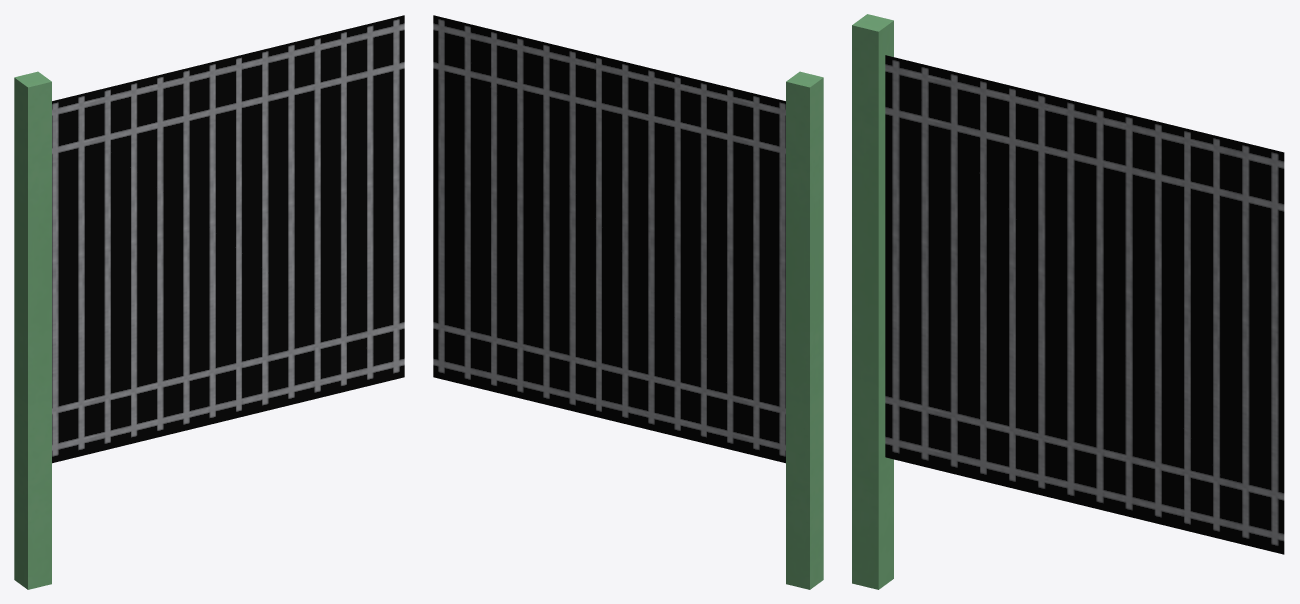
Rendered from fence-mesh-1m-cbj_LOD00.gltf.
The picture shows the model from 3 angles, left to right: view 1: azimuth 30°, elevation 25°; view 2: azimuth 150°, elevation 25°; view 3: azimuth 330°, elevation 25°; orthographic projection. The views are drawn at different scales.
Visible parts, largest first — view 1: post; view 2: post; view 3: post.
Boxes of the visible parts, box(x1,y1,x2,y2) form: post: box(14, 15, 404, 589); post: box(433, 15, 823, 589); post: box(852, 14, 1284, 589).
Size of the model in its own units: 1.12 by 1.4 by 0.07.
